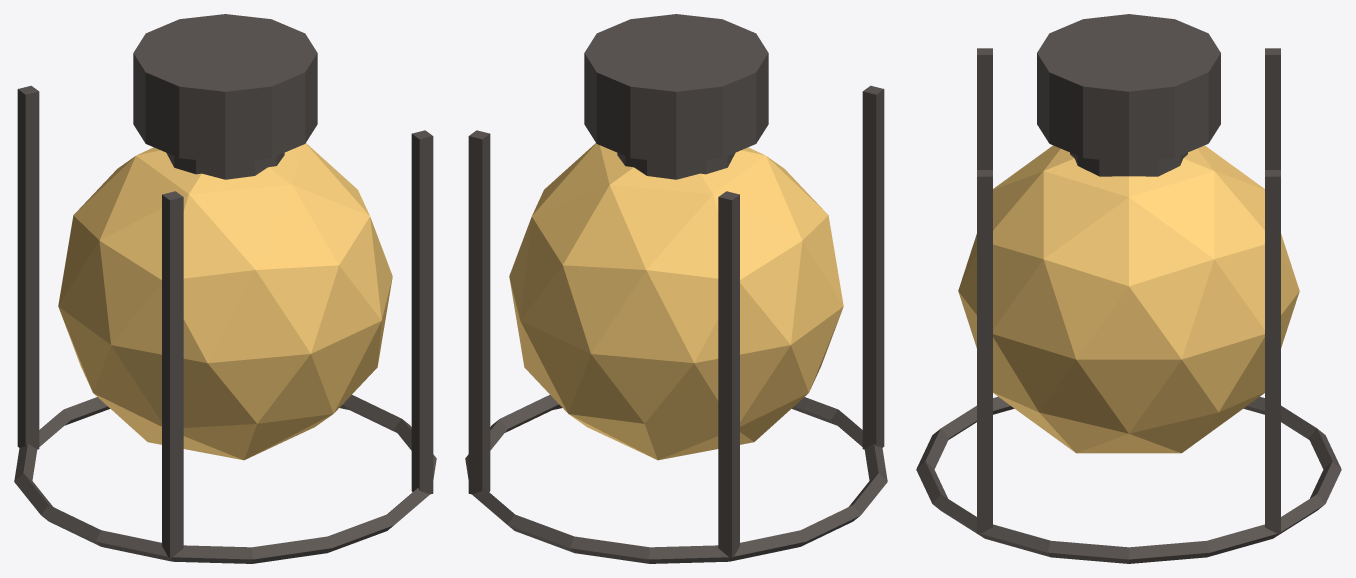
File: lamp.glb
3 views of the same model, side by side, from view 1: azimuth 30°, elevation 25°; view 2: azimuth 150°, elevation 25°; view 3: azimuth 270°, elevation 25° (orthographic).
Visible parts, largest first — view 1: whole, frame; view 2: whole, frame; view 3: whole, frame.
Boxes of the visible parts, bbox=[...] form: whole: bbox=[58, 143, 392, 460]; frame: bbox=[14, 14, 436, 563]; whole: bbox=[509, 143, 843, 460]; frame: bbox=[465, 14, 887, 563]; whole: bbox=[958, 145, 1299, 453]; frame: bbox=[916, 14, 1341, 563].
Size of the model in its own units: 0.324 by 0.357 by 0.324.
